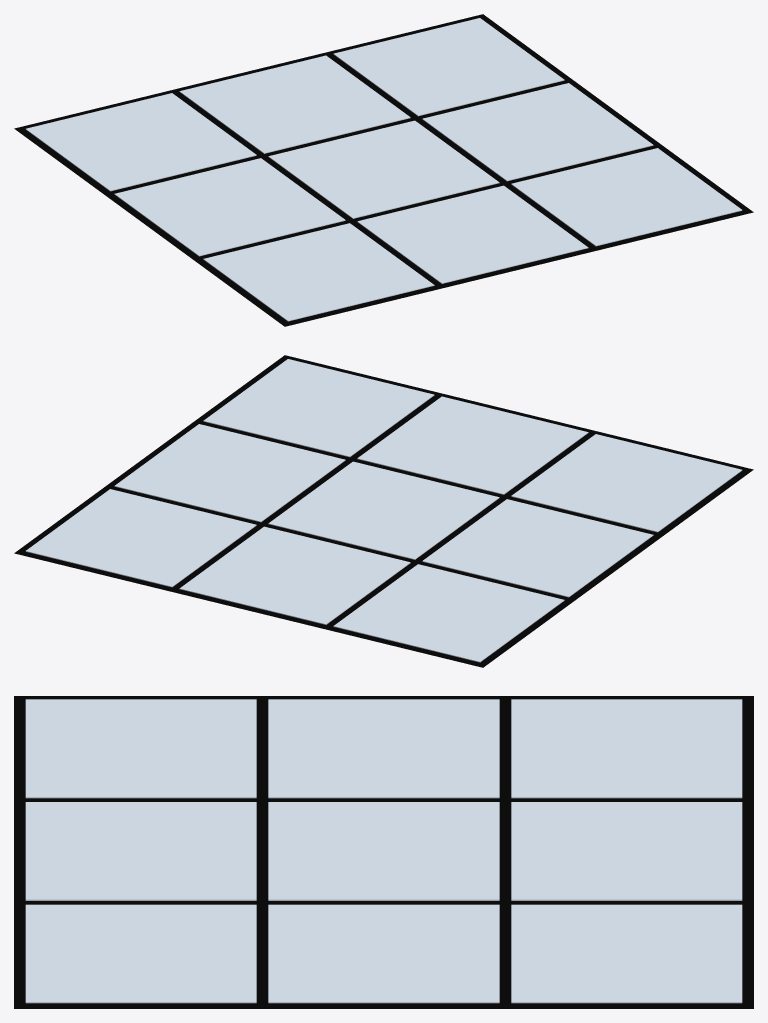
The model's file is dangerRoomFloor.fbx.
The picture shows the model from 3 angles, top to bottom: view 1: azimuth 30°, elevation 25°; view 2: azimuth 150°, elevation 25°; view 3: azimuth 270°, elevation 25°; orthographic projection. The views are drawn at different scales.
Parts seen in each view (by area): view 1: Plane, Cube 0.3, Cube 2.3, Cube 2, Cube 1.3, Cube 0, Cube 1, Cube 0.2, Cube 2.2, Cube 1.2; view 2: Plane, Cube 0.3, Cube 2.3, Cube 0, Cube 1.3, Cube 1, Cube 2, Cube 2.2, Cube 0.2, Cube 1.2; view 3: Plane, Cube 1, Cube 1.2, Cube 0, Cube 2, Cube 0.2, Cube 2.2, Cube 0.3, Cube 1.3, Cube 2.3.
Part boxes in pixels (x1,y1,x2,y2): Plane: (14,14,753,326); Cube 0.3: (357,185,588,283); Cube 2.3: (179,55,410,153); Cube 2: (25,93,256,191); Cube 1.3: (268,120,499,218); Cube 0: (203,223,434,321); Cube 1: (114,158,345,256); Cube 0.2: (511,148,742,246); Cube 2.2: (333,18,564,116); Cube 1.2: (422,83,653,181); Plane: (14,355,753,667); Cube 0.3: (357,396,588,494); Cube 2.3: (179,526,410,624); Cube 0: (511,434,742,532); Cube 1.3: (268,461,499,559); Cube 1: (422,499,653,597); Cube 2: (333,564,564,662); Cube 2.2: (25,489,256,587); Cube 0.2: (203,359,434,457); Cube 1.2: (114,424,345,522); Plane: (14,696,753,1008); Cube 1: (268,699,499,798); Cube 1.2: (268,904,499,1003); Cube 0: (25,699,256,798); Cube 2: (511,699,742,798); Cube 0.2: (25,904,256,1003); Cube 2.2: (511,904,742,1003); Cube 0.3: (25,802,256,900); Cube 1.3: (268,802,499,900); Cube 2.3: (511,802,742,900).
Size of the model in its own units: 640 by 1.5 by 640.
